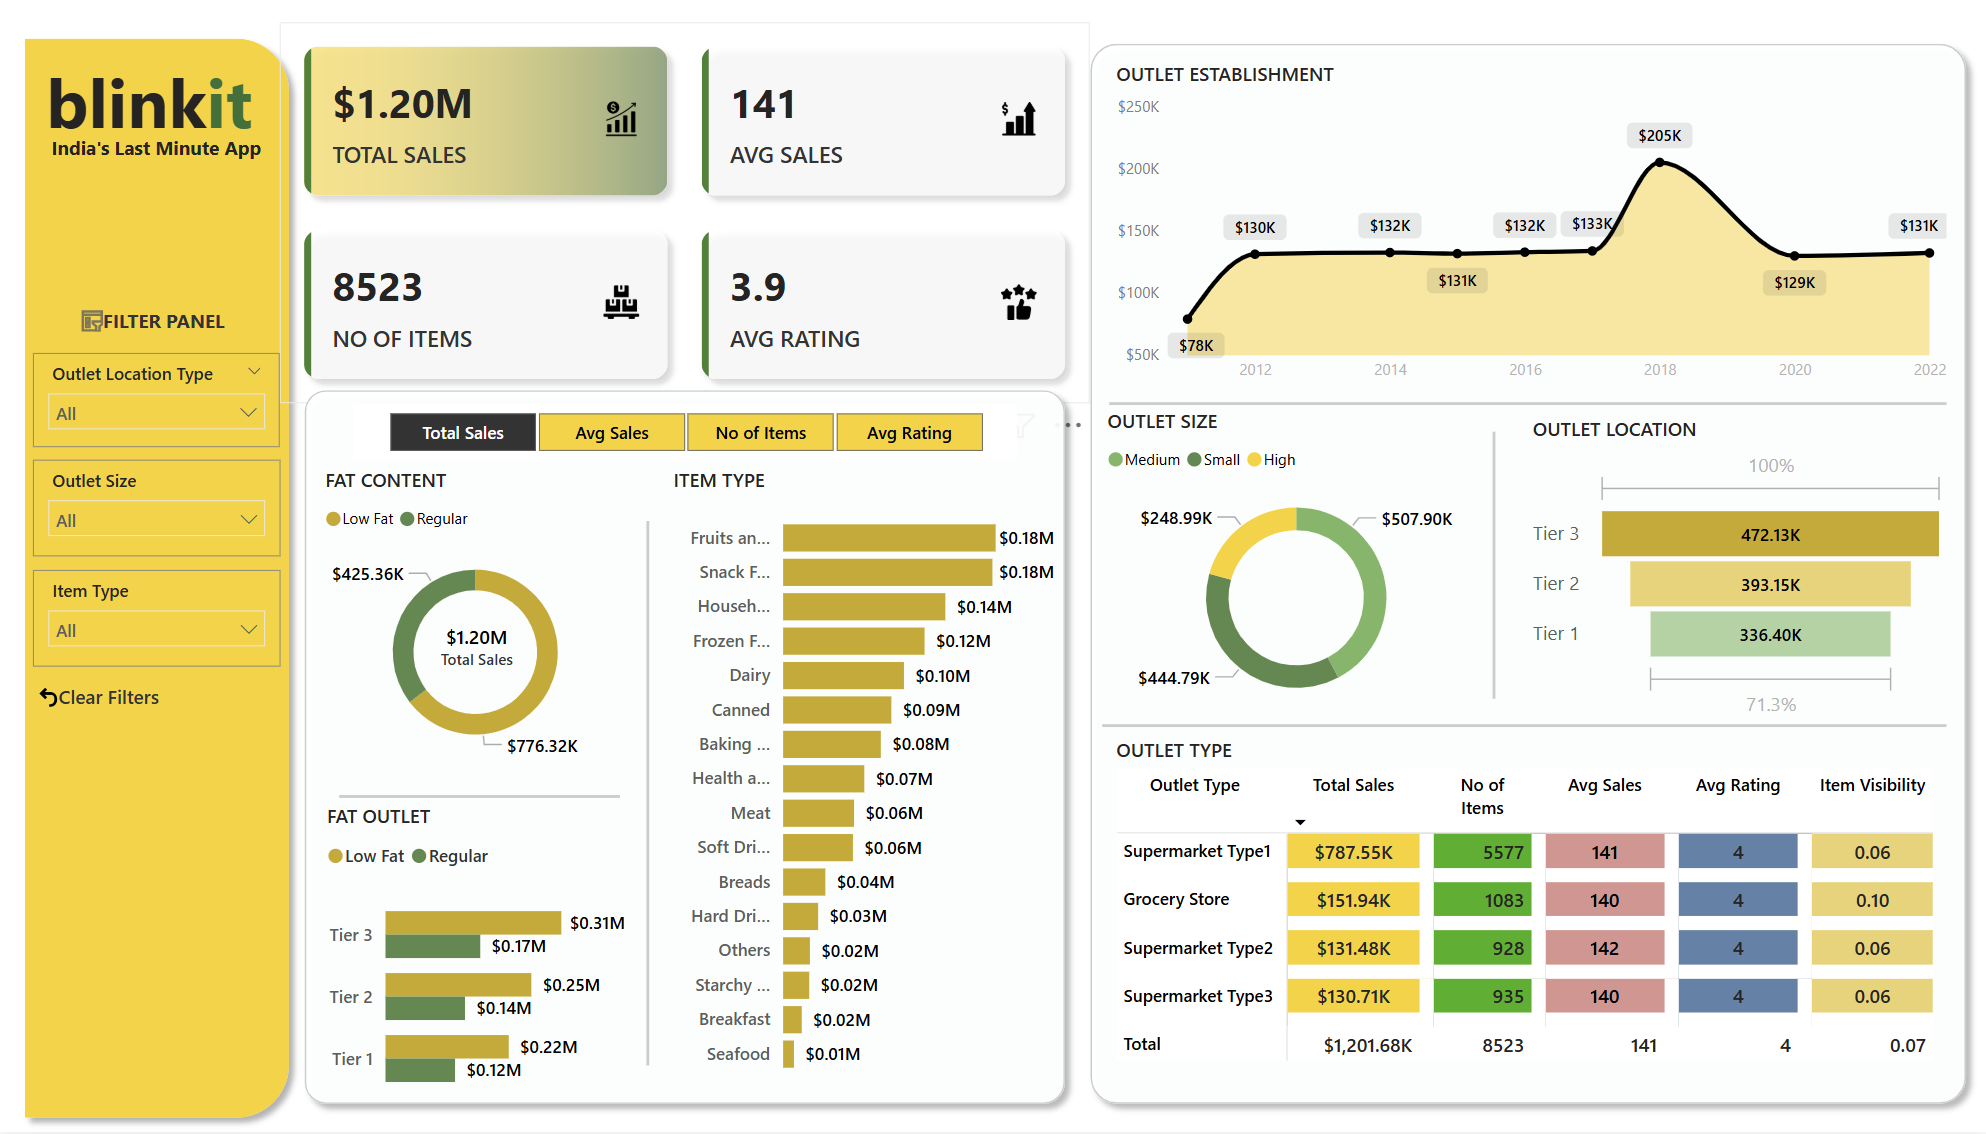

This screenshot's page, from the dashboard's own definition file:
{"tool":"powerbi","page":{"name":"Page 1","canvas":[1400,800],"ordinal":0},"visuals":[{"type":"shape","box":[10,21.6,204.1,778.1],"z":0},{"type":"textbox","box":[24.3,35.2,163.8,83.7],"z":1000},{"type":"textbox","box":[24.7,92.4,173.8,35.7],"z":2000},{"type":"cardVisual","fields":{"Data":["BlinkIT Grocery Data.Total Sales","BlinkIT Grocery Data.Avg Sales","BlinkIT Grocery Data.No of Items","BlinkIT Grocery Data.Avg Rating"]},"box":[199,18.2,570.3,269.4],"z":3000},{"type":"shape","box":[207.5,268.2,553.3,520.6],"z":4000},{"type":"donutChart","title":"FAT CONTENT","fields":{"Y":["BlinkIT Grocery Data.Total Sales"],"Category":["BlinkIT Grocery Data.Item Fat Content"]},"box":[225.7,331.3,220.8,217.2],"z":5000},{"type":"slicer","fields":{"Values":["metrics.metrics"]},"box":[250,287.6,467.2,40],"z":6000},{"type":"cardVisual","fields":{"Data":["BlinkIT Grocery Data.Total Sales"]},"box":[290,424.7,95.9,61.9],"z":7000},{"type":"clusteredBarChart","title":"FAT OUTLET","fields":{"Y":["BlinkIT Grocery Data.Total Sales"],"Category":["BlinkIT Grocery Data.Outlet Location Type"],"Series":["BlinkIT Grocery Data.Item Fat Content"]},"box":[226.9,567.9,219.6,220.8],"z":8000},{"type":"shape","box":[240.3,557,197.8,13.3],"z":9000},{"type":"shape","box":[445.3,370.1,25.5,383.4],"z":10000},{"type":"barChart","title":"ITEM TYPE ","fields":{"Y":["BlinkIT Grocery Data.Total Sales"],"Category":["BlinkIT Grocery Data.Item Type"]},"box":[470.8,331.3,277.9,438.1],"z":11000},{"type":"shape","box":[854.3,557,197.8,13.3],"z":12000},{"type":"shape","box":[760.8,24.3,634.6,764.5],"z":13000},{"type":"lineChart","title":"OUTLET ESTABLISHMENT","fields":{"Y":["BlinkIT Grocery Data.Total Sales"],"Category":["BlinkIT Grocery Data.Outlet Establishment Year"]},"box":[782.7,46.1,594.6,235.4],"z":14000},{"type":"shape","box":[782.7,281.5,589.7,12.1],"z":15000},{"type":"donutChart","title":"OUTLET SIZE","fields":{"Y":["BlinkIT Grocery Data.Total Sales"],"Category":["BlinkIT Grocery Data.Outlet Size"]},"box":[776.6,290,275.5,224.5],"z":16000},{"type":"shape","box":[1042.3,307,21.8,188.1],"z":17000},{"type":"funnel","title":"OUTLET LOCATION","fields":{"Y":["Sum(BlinkIT Grocery Data.Sales)"],"Category":["BlinkIT Grocery Data.Outlet Location Type"]},"box":[1076.3,296.1,300.9,218.4],"z":18000},{"type":"shape","box":[777.8,508.4,594.6,12.1],"z":19000},{"type":"pivotTable","title":"OUTLET TYPE","fields":{"Rows":["BlinkIT Grocery Data.Outlet Type"],"Values":["BlinkIT Grocery Data.Total Sales","BlinkIT Grocery Data.No of Items","BlinkIT Grocery Data.Avg Sales","BlinkIT Grocery Data.Avg Rating","Avg(BlinkIT Grocery Data.Item Visibility)"]},"box":[782.7,521.8,594.6,242.7],"z":20000},{"type":"slicer","fields":{"Values":["BlinkIT Grocery Data.Outlet Location Type"]},"box":[24.7,251.4,173.8,66.6],"z":21000},{"type":"slicer","fields":{"Values":["BlinkIT Grocery Data.Outlet Size"]},"box":[24.9,326.8,174.2,68],"z":22000},{"type":"slicer","fields":{"Values":["BlinkIT Grocery Data.Item Type"]},"box":[24.9,404.8,174.2,68],"z":23000},{"type":"actionButton","box":[27.1,202.1,162.7,39.4],"z":24000},{"type":"actionButton","box":[24.7,479.5,165.2,28.3],"z":25000}]}

Visuals, with their boxes in screenshot pixels (x1, y1, x2, y2), scaled from the page's 1400x800 canvas onto the 1986x1134 screenshot:
shape: 14,31,304,1133
textbox: 34,50,267,169
textbox: 35,131,282,182
cardVisual - BlinkIT Grocery Data.Total Sales x BlinkIT Grocery Data.Avg Sales: 282,26,1091,408
shape: 294,380,1079,1118
"FAT CONTENT" donutChart: 320,470,633,777
slicer - metrics.metrics: 355,408,1017,464
cardVisual - BlinkIT Grocery Data.Total Sales: 411,602,547,690
"FAT OUTLET" clusteredBarChart: 322,805,633,1118
shape: 341,790,621,808
shape: 632,525,668,1068
"ITEM TYPE " barChart: 668,470,1062,1091
shape: 1212,790,1492,808
shape: 1079,34,1979,1118
"OUTLET ESTABLISHMENT" lineChart: 1110,65,1954,399
shape: 1110,399,1947,416
"OUTLET SIZE" donutChart: 1102,411,1492,729
shape: 1479,435,1510,702
"OUTLET LOCATION" funnel: 1527,420,1954,729
shape: 1103,721,1947,738
"OUTLET TYPE" pivotTable: 1110,740,1954,1084
slicer - BlinkIT Grocery Data.Outlet Location Type: 35,356,282,451
slicer - BlinkIT Grocery Data.Outlet Size: 35,463,282,560
slicer - BlinkIT Grocery Data.Item Type: 35,574,282,670
actionButton: 38,286,269,342
actionButton: 35,680,269,720
